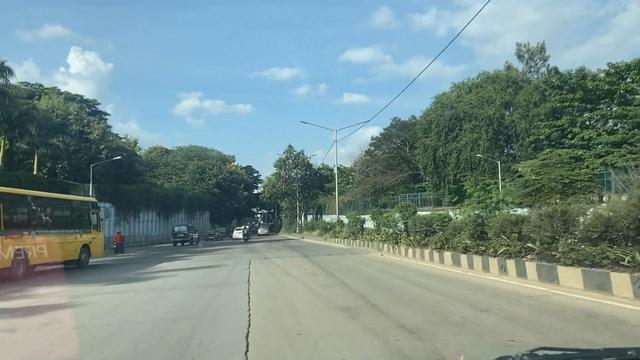RoadDamages: (238, 257, 257, 360)
